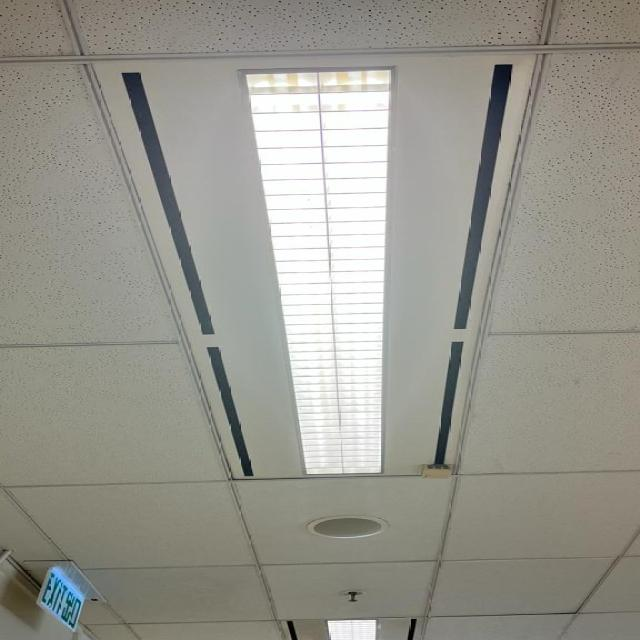Light-Opened: (76, 49, 540, 479)
